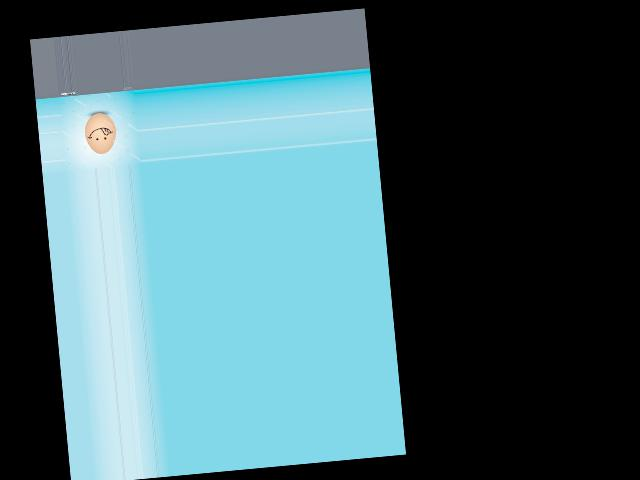egg: (83, 111, 118, 155)
